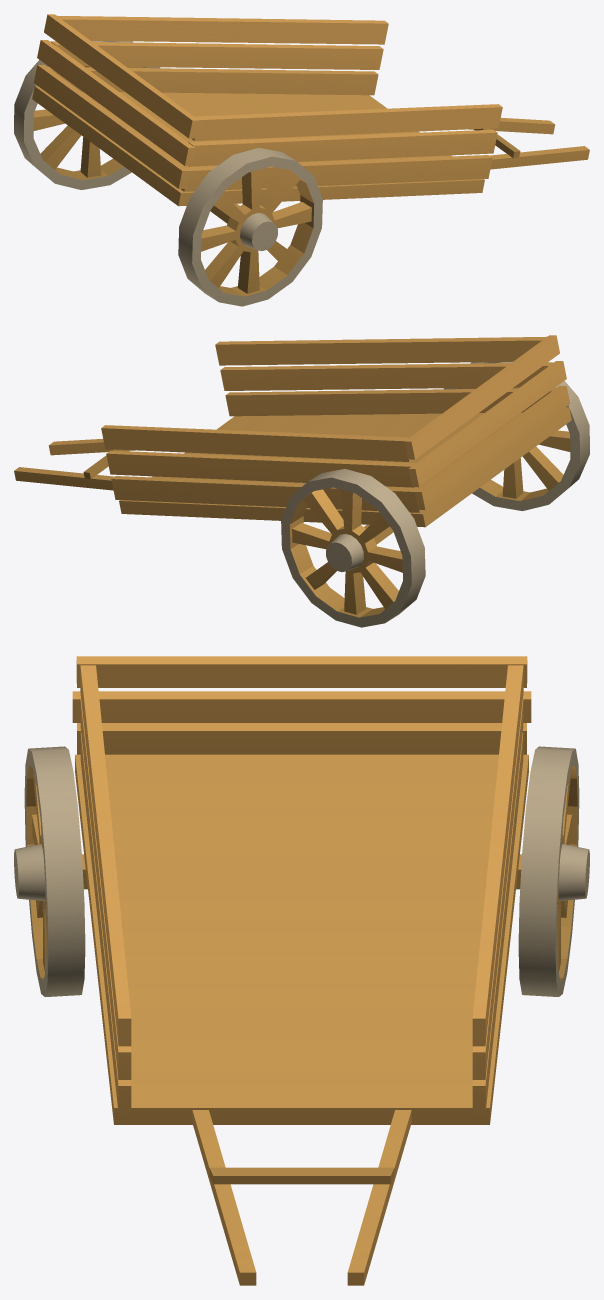
Rendered from Cart.fbx.
3 views of the same model, one above another, from view 1: azimuth 30°, elevation 25°; view 2: azimuth 150°, elevation 25°; view 3: azimuth 270°, elevation 25° (orthographic). The views are drawn at different scales.
Visible parts, largest first — view 1: Cart; view 2: Cart; view 3: Cart.
Part boxes in pixels (x1,y1,x2,y2): Cart: (14,14,589,306); Cart: (14,335,589,627); Cart: (14,656,589,1285).
Size of the model in its own units: 136 by 51.94 by 93.42.
